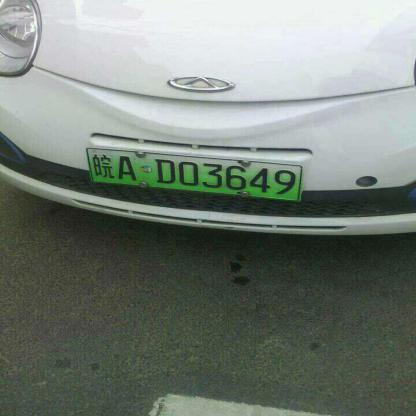lp: (84, 148, 302, 202)
